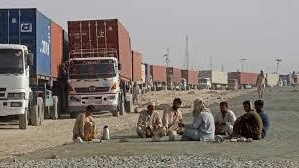truck: (0, 7, 67, 129), (67, 20, 131, 118)
